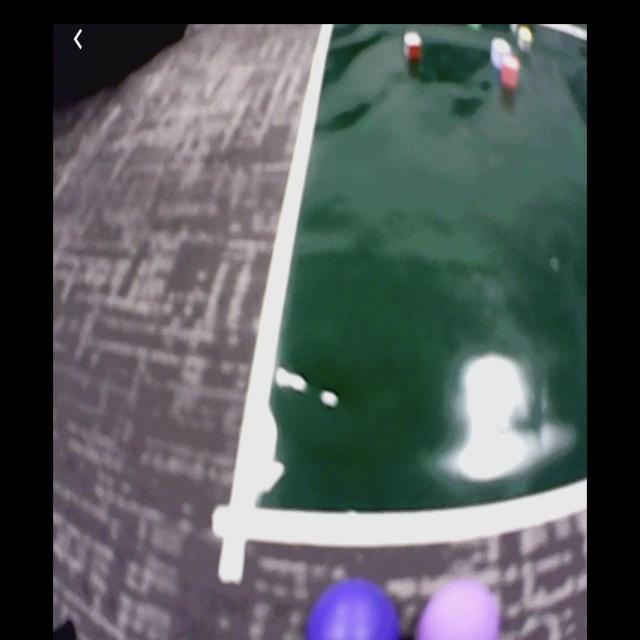ball: (312, 577, 403, 640), (418, 580, 499, 640)
